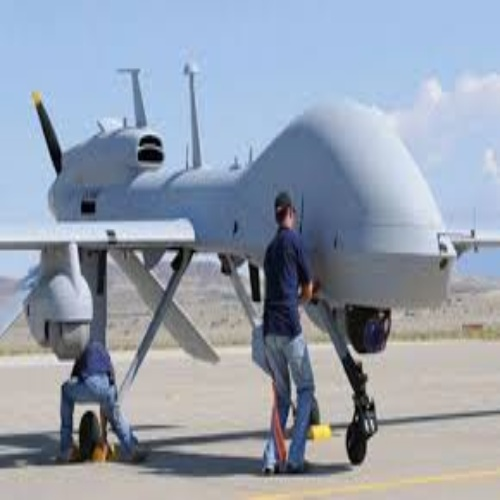uav638: (4, 59, 495, 467)
